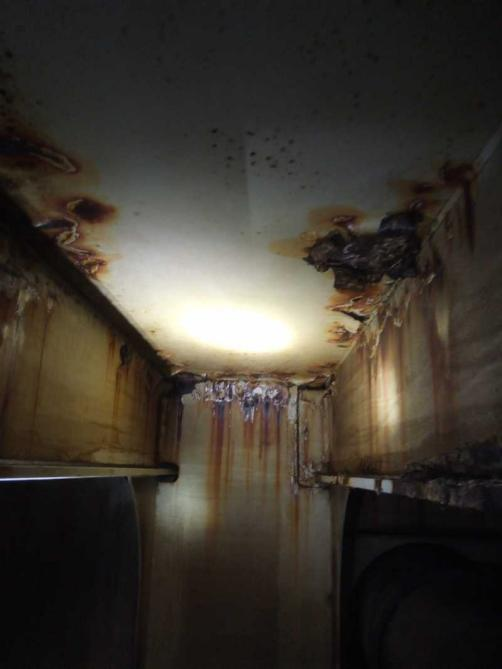corrosion: (347, 312, 463, 449), (292, 202, 424, 303), (92, 326, 179, 466), (0, 261, 55, 469), (0, 81, 86, 186), (292, 348, 335, 477), (434, 165, 490, 259), (38, 191, 117, 241), (207, 374, 232, 529), (199, 376, 293, 415), (236, 380, 261, 505), (265, 387, 285, 529), (65, 234, 112, 282)
